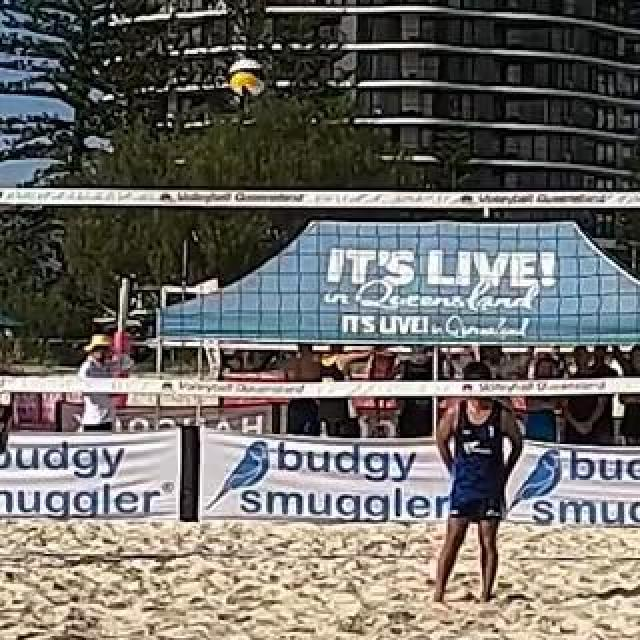volleyball: (231, 64, 263, 96)
